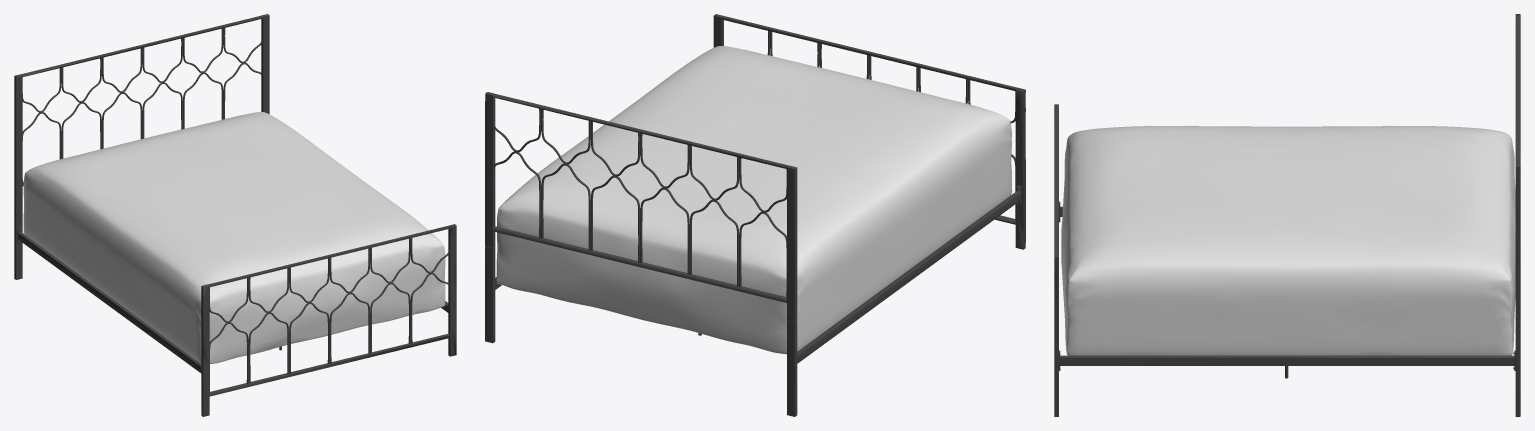
File: B075QMHYV8.glb
The picture shows the model from 3 angles, left to right: view 1: azimuth 30°, elevation 25°; view 2: azimuth 150°, elevation 25°; view 3: azimuth 270°, elevation 25°; orthographic projection. The views are drawn at different scales.
Parts seen in each view (by area): view 1: RootNode; view 2: RootNode; view 3: RootNode.
Boxes of the visible parts, box(x1,y1,x2,y2) form: RootNode: box(14, 14, 456, 416); RootNode: box(485, 14, 1025, 416); RootNode: box(1054, 14, 1520, 416).
Size of the model in its own units: 1.6 by 1.22 by 2.06.
Materials: 1 (1 with a texture image).
